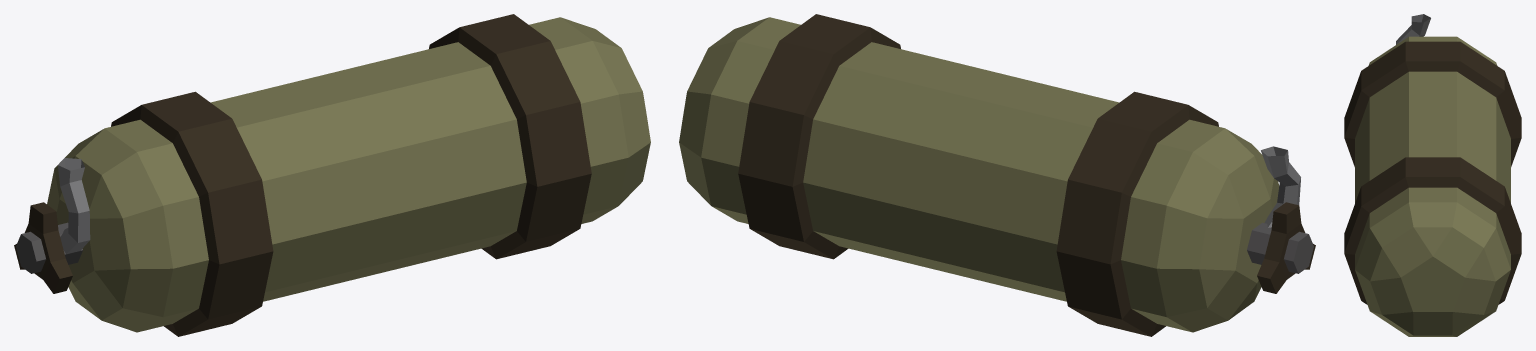
The model's file is apoc_SM_Wep_Mod_Attach_Misc_03.gltf.
3 views of the same model, side by side, from view 1: azimuth 30°, elevation 25°; view 2: azimuth 150°, elevation 25°; view 3: azimuth 270°, elevation 25° (orthographic). The views are drawn at different scales.
Visible parts, largest first — view 1: SM_Wep_Mod_Attach_Misc_03; view 2: SM_Wep_Mod_Attach_Misc_03; view 3: SM_Wep_Mod_Attach_Misc_03.
Part boxes in pixels (left/top/right/bottom): SM_Wep_Mod_Attach_Misc_03: left=14, top=14, right=650, bottom=336; SM_Wep_Mod_Attach_Misc_03: left=679, top=14, right=1315, bottom=336; SM_Wep_Mod_Attach_Misc_03: left=1344, top=14, right=1521, bottom=336.
Bounding box in the file's own units: 0.2643 × 0.0866 × 0.0911.
1 material, 1 textured.
